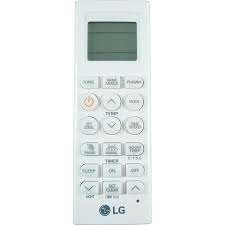remote control: (74, 1, 155, 225)
